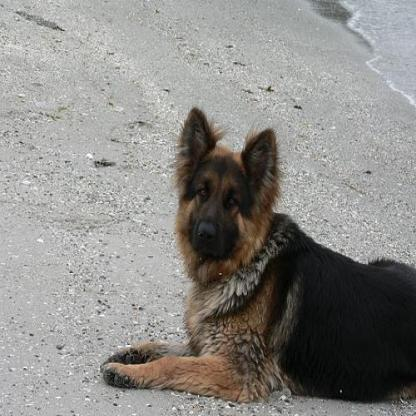German_shepherd: (99, 104, 414, 403)
